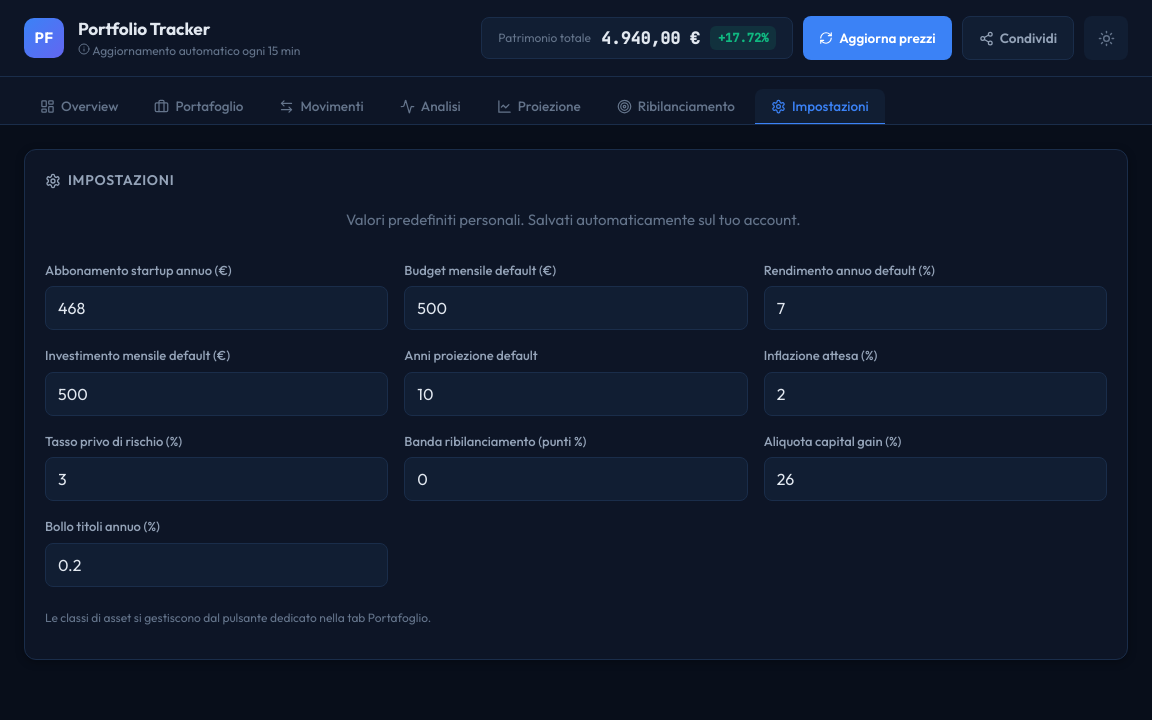
Test case: Movimenti mostra il registro e i risultati che ne derivano
Step 1. Click the button "Movimenti" → (322, 107), box [264, 89, 380, 125]
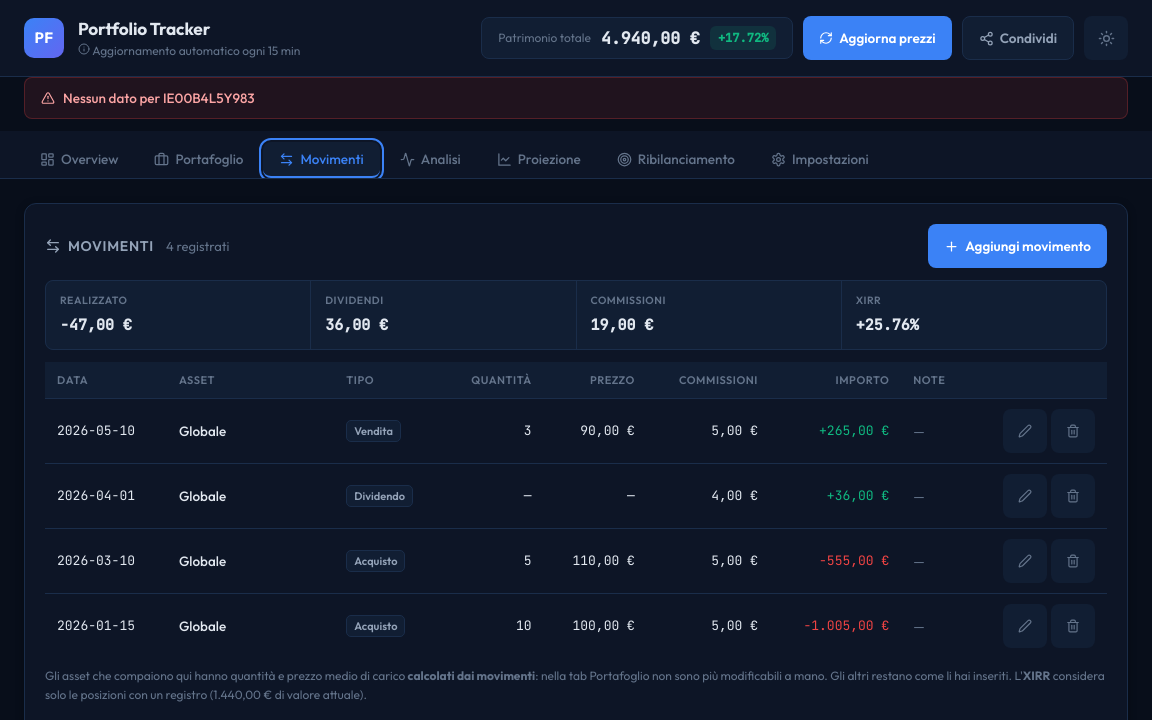
Expected: the text "4 registrati" is shown, [166, 236, 230, 256]
Expected: the text "Acquisto" in the row of "2026-03-10" is shown, [354, 554, 398, 568]
Expected: the text "Vendita" is shown, [346, 420, 401, 442]
